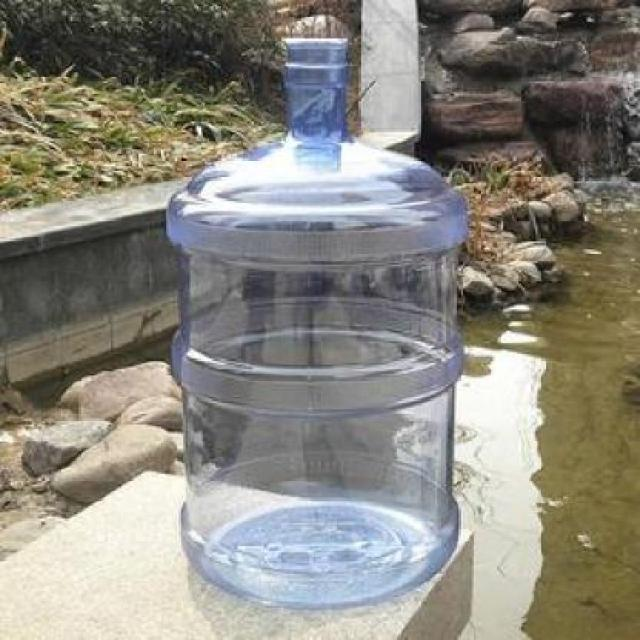coolerbottle: (163, 34, 472, 614)
